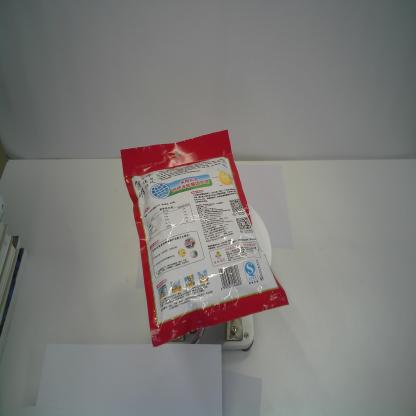Instant Drink: (120, 130, 290, 348)
